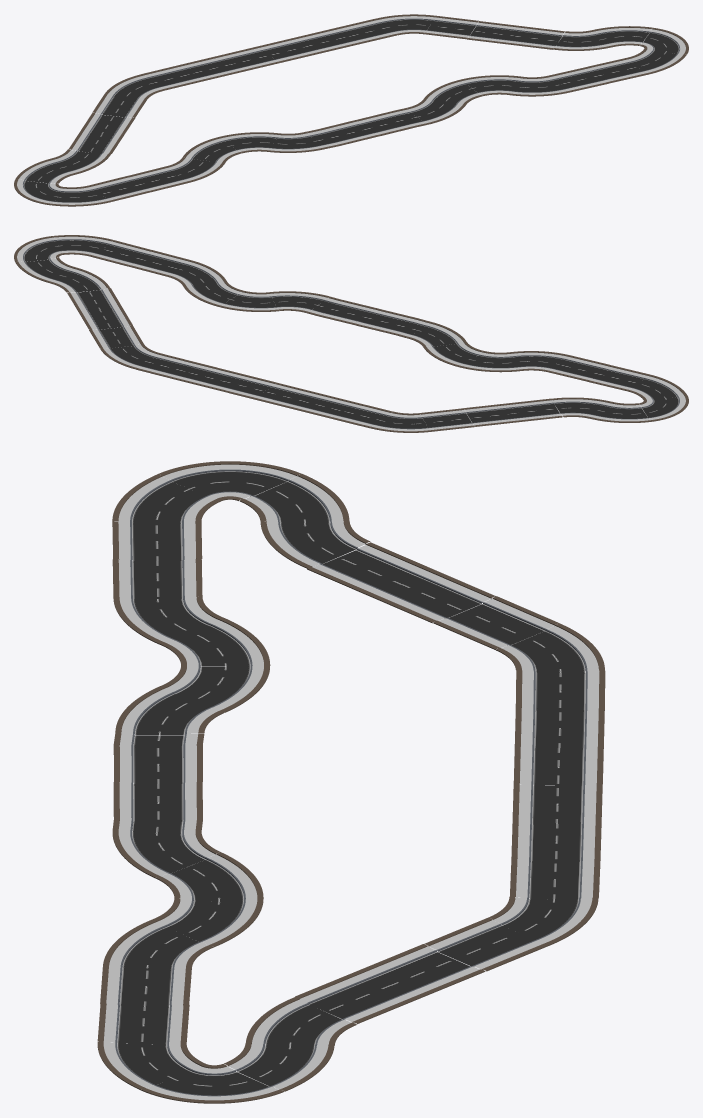
The model's file is road.fbx.
The picture shows the model from 3 angles, top to bottom: view 1: azimuth 30°, elevation 25°; view 2: azimuth 150°, elevation 25°; view 3: azimuth 270°, elevation 25°; orthographic projection. The views are drawn at different scales.
Parts seen in each view (by area): view 1: Bridge.005.Road.A.014; view 2: Bridge.005.Road.A.014; view 3: Bridge.005.Road.A.014.
Boxes of the visible parts, x1=… form: Bridge.005.Road.A.014: x1=14, y1=14, x2=688, y2=206; Bridge.005.Road.A.014: x1=14, y1=235, x2=688, y2=432; Bridge.005.Road.A.014: x1=97, y1=461, x2=605, y2=1103.
Size of the model in its own units: 32538 by 50.24 by 10882.
